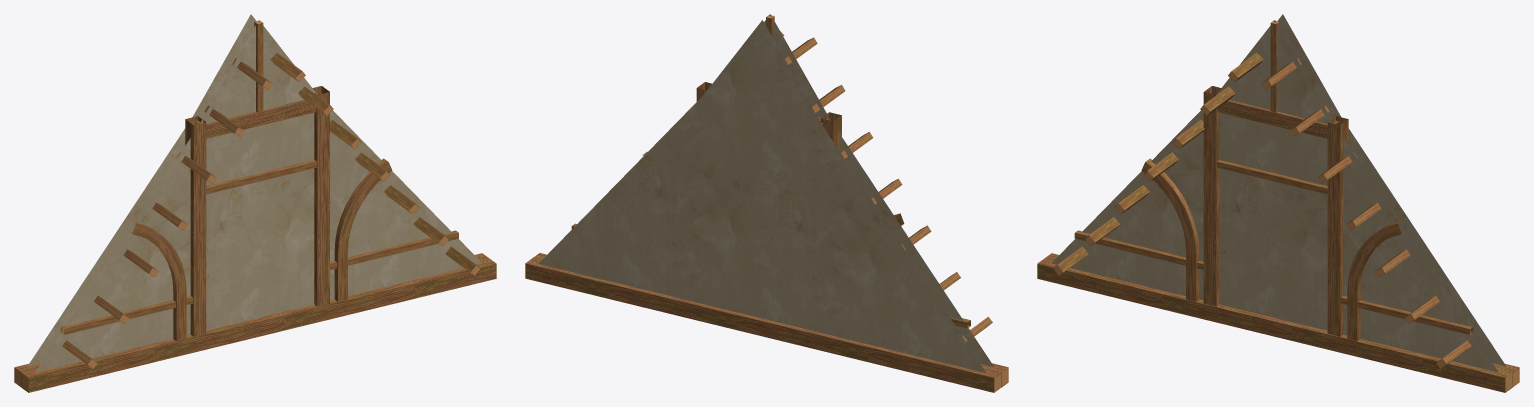
Rendered from Roof_Front_Brick8.gltf.
The picture shows the model from 3 angles, left to right: view 1: azimuth 30°, elevation 25°; view 2: azimuth 150°, elevation 25°; view 3: azimuth 330°, elevation 25°; orthographic projection.
Parts seen in each view (by area): view 1: Roof_Front_Brick8; view 2: Roof_Front_Brick8; view 3: Roof_Front_Brick8.
Part boxes in pixels (x1=…): Roof_Front_Brick8: x1=14, y1=14, x2=496, y2=392; Roof_Front_Brick8: x1=525, y1=14, x2=1008, y2=392; Roof_Front_Brick8: x1=1037, y1=14, x2=1519, y2=392.
Size of the model in its own units: 8.51 by 5.45 by 1.13.
Materials: 2 (2 with a texture image).
